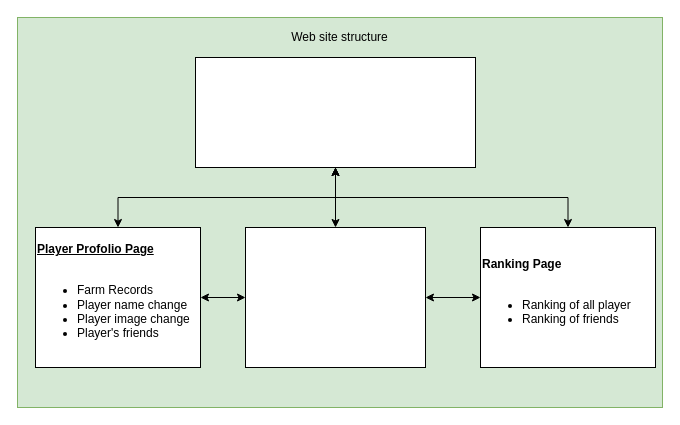
This 680x425 diagram has some shape labels left out. The shapes that lost their labels are listed below. From the top down, each one's box as (x1, y1, x2, y2) in pixels, then its label:
(194, 56, 476, 168): Landing Page Sign in / sign up panel Showing random player's farm as background
(244, 226, 426, 368): Game Page Main Game area Quick links to friend and random player's farm
